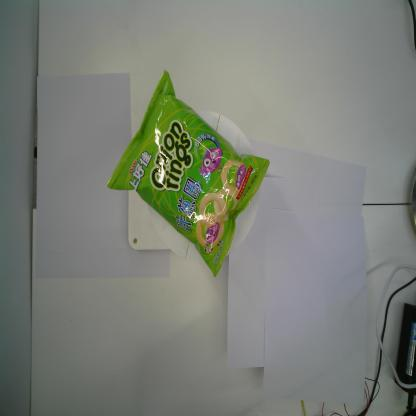Puffed Food: (105, 68, 270, 278)
